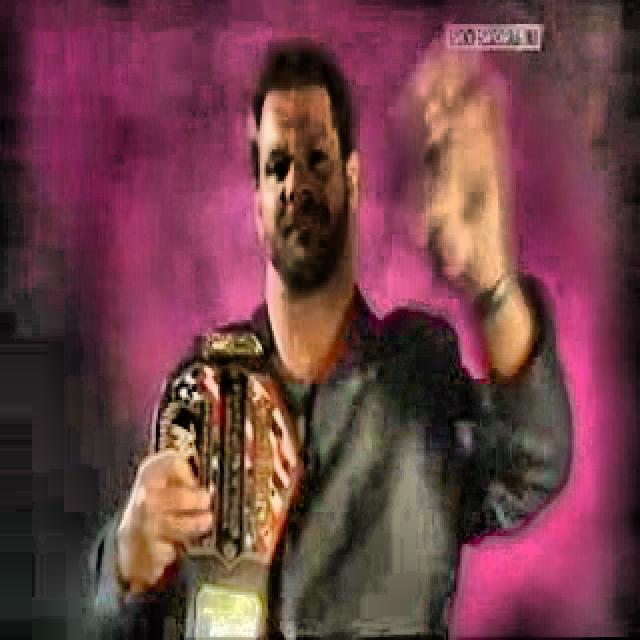L: (90, 44, 571, 638)
